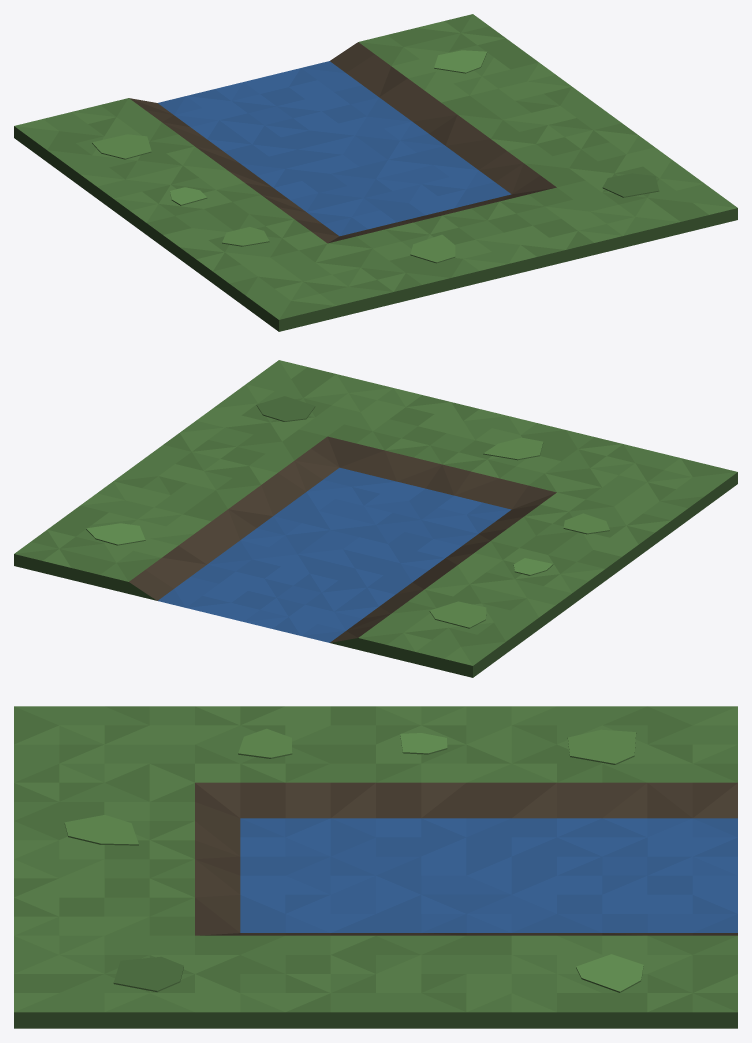
Rendered from river_end_grass.glb.
3 renders of one model, top to bottom at view 1: azimuth 30°, elevation 25°; view 2: azimuth 150°, elevation 25°; view 3: azimuth 270°, elevation 25°, orthographic. The views are drawn at different scales.
Parts seen in each view (by area): view 1: river_end_grass; view 2: river_end_grass; view 3: river_end_grass.
Boxes of the visible parts, box(x1,y1,x2,y2) form: river_end_grass: box(14, 14, 737, 331); river_end_grass: box(14, 360, 737, 677); river_end_grass: box(14, 706, 737, 1028).
Size of the model in its own units: 4 by 0.108 by 4.
